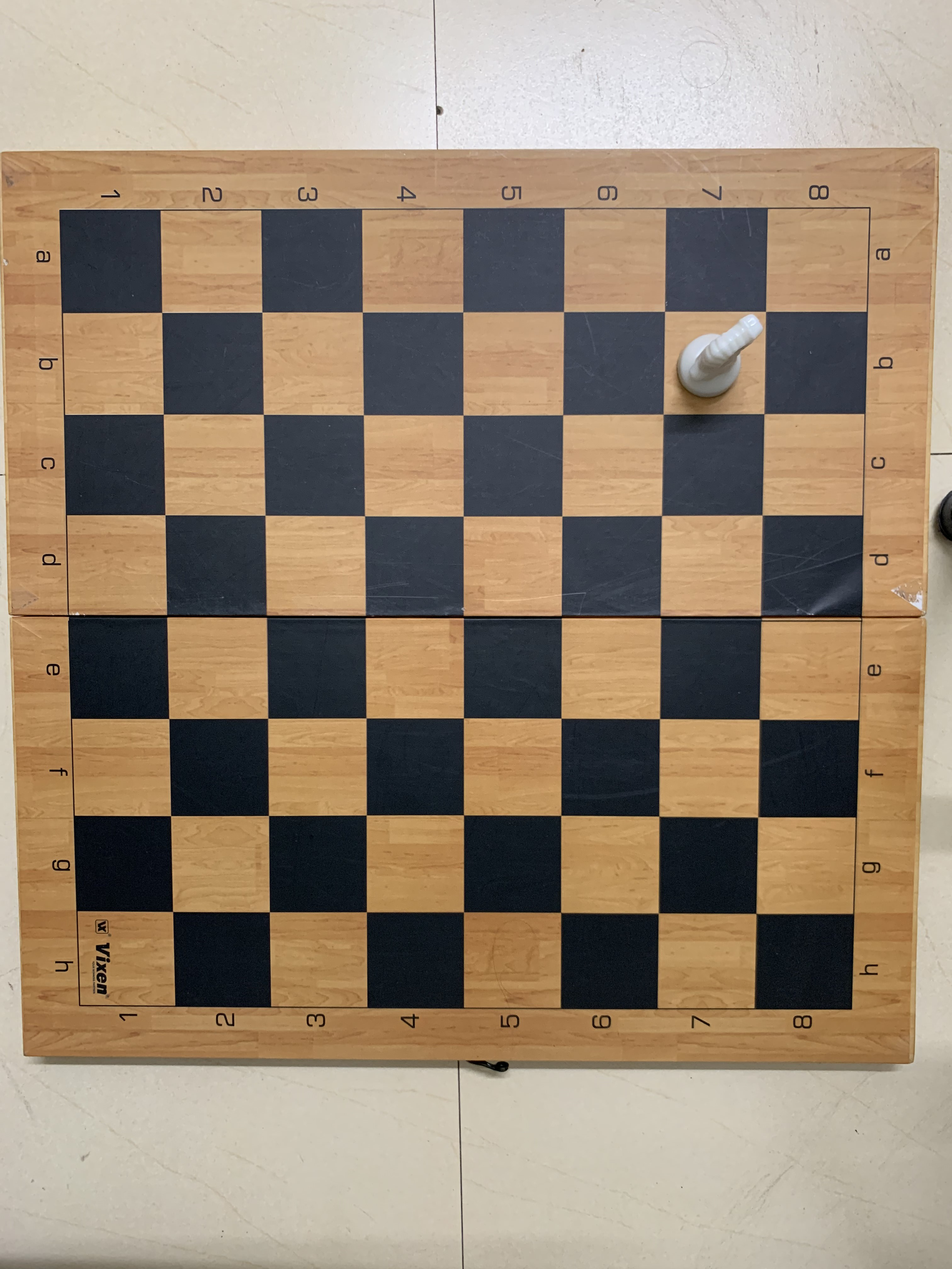white_knight: (664, 315, 770, 416)
